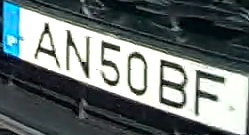0: (125, 51, 148, 97)
5: (98, 38, 122, 87)
A: (30, 20, 62, 70)
B: (157, 57, 189, 111)
F: (193, 67, 226, 118)
N: (64, 27, 92, 81)
